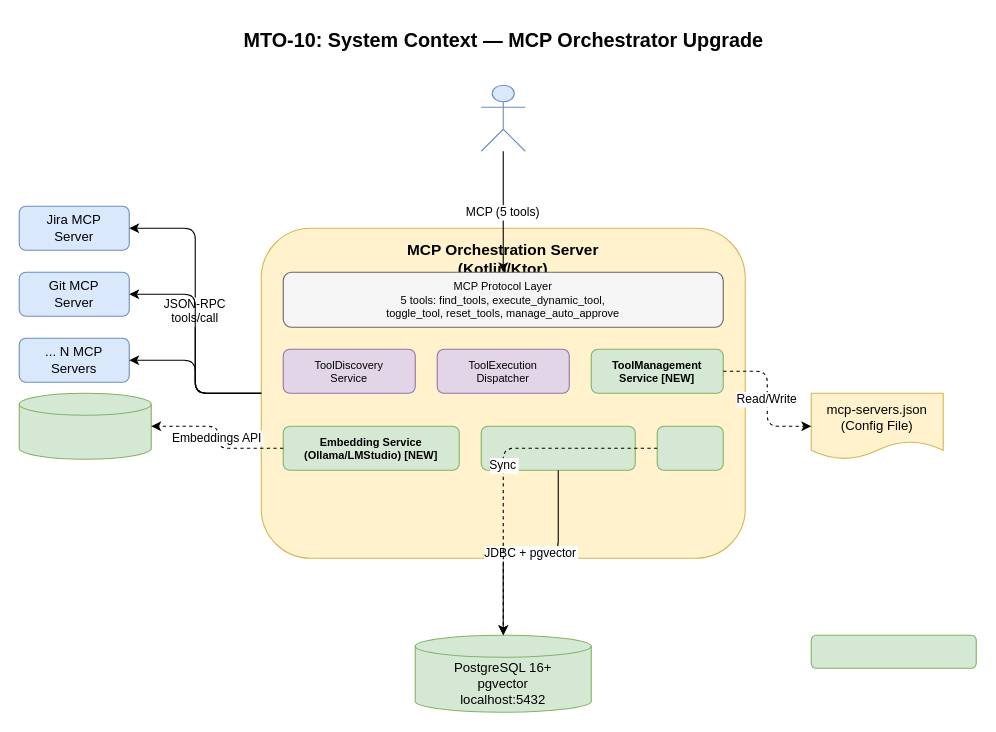
Image size: 996x732. Some labels were removed from this diagram. The box of each missing label's shape, as (x1, y1, x2, y2) in pixels:
[NEW] = Added by MTO-10: (810, 634, 976, 668)
ConfigDbSync [NEW]: (656, 425, 723, 470)
Kiro AI IDE (AI Agent): (480, 84, 525, 151)
Ollama localhost:11434: (18, 392, 151, 459)
PgVectorDbClient (pgvector) [NEW]: (480, 425, 635, 470)
